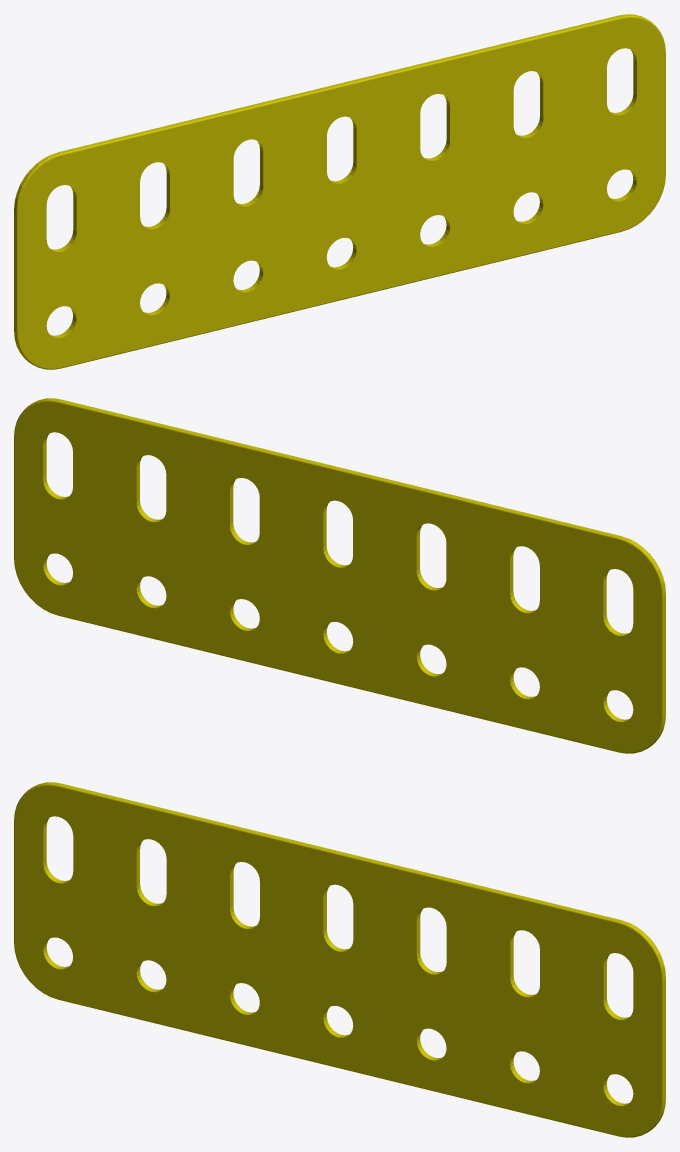
The model's file is TamPhang_2x7_KimLoai_Vang.glb.
3 views of the same model, one above another, from view 1: azimuth 30°, elevation 25°; view 2: azimuth 150°, elevation 25°; view 3: azimuth 330°, elevation 25° (orthographic).
Parts seen in each view (by area): view 1: defaultobject; view 2: defaultobject; view 3: defaultobject.
Part boxes in pixels (bbox=[...]): defaultobject: bbox=[14, 14, 665, 369]; defaultobject: bbox=[14, 398, 665, 753]; defaultobject: bbox=[14, 782, 665, 1137].
Bounding box in the file's own units: 268 × 84.83 × 2.47.
